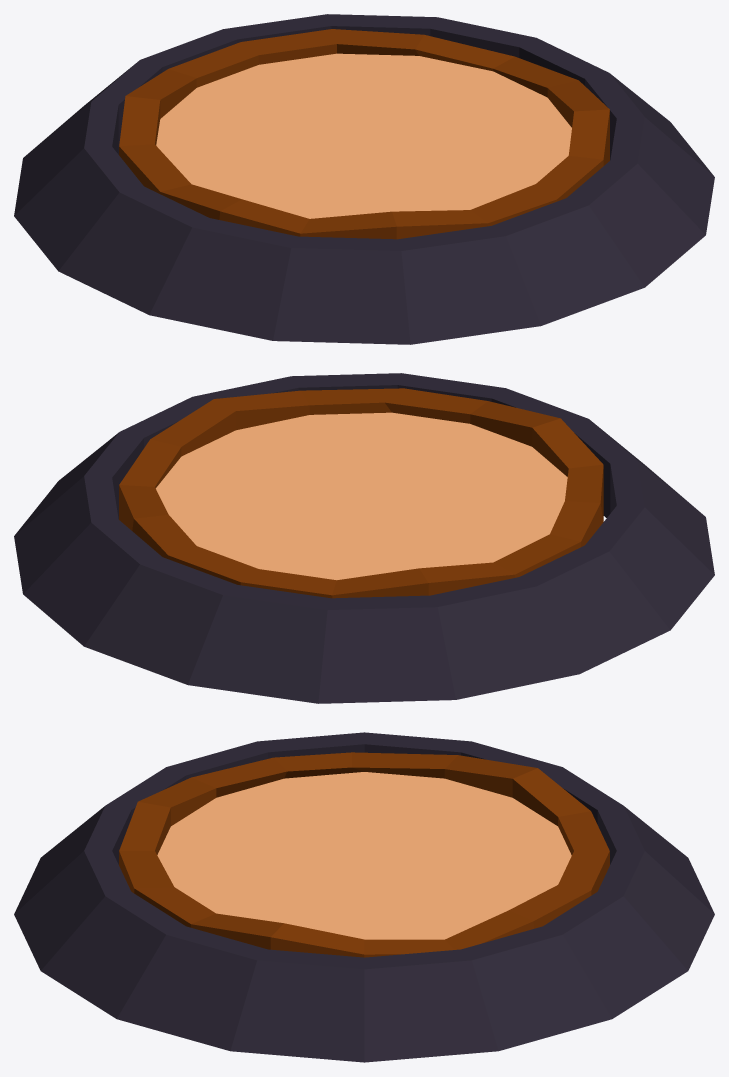
File: pressure_switch.glb
3 renders of one model, top to bottom at view 1: azimuth 30°, elevation 25°; view 2: azimuth 150°, elevation 25°; view 3: azimuth 270°, elevation 25°, orthographic.
Visible parts, largest first — view 1: Plate, Button; view 2: Plate, Button; view 3: Plate, Button.
Boxes of the visible parts, x1,y1,x2,y2 form: Plate: (14, 14, 714, 344); Button: (119, 29, 609, 239); Plate: (14, 373, 714, 703); Button: (119, 388, 603, 598); Plate: (14, 732, 714, 1062); Button: (119, 752, 609, 957).
Size of the model in its own units: 1 by 0.115 by 1.
